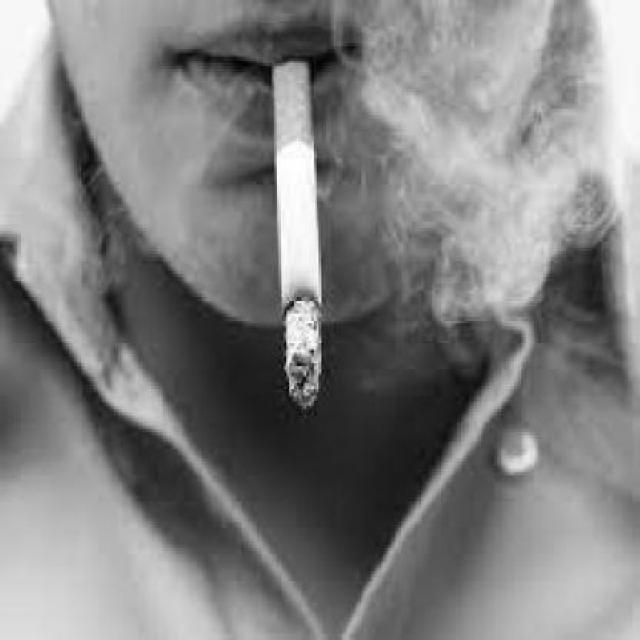cigarette: (268, 54, 329, 420)
